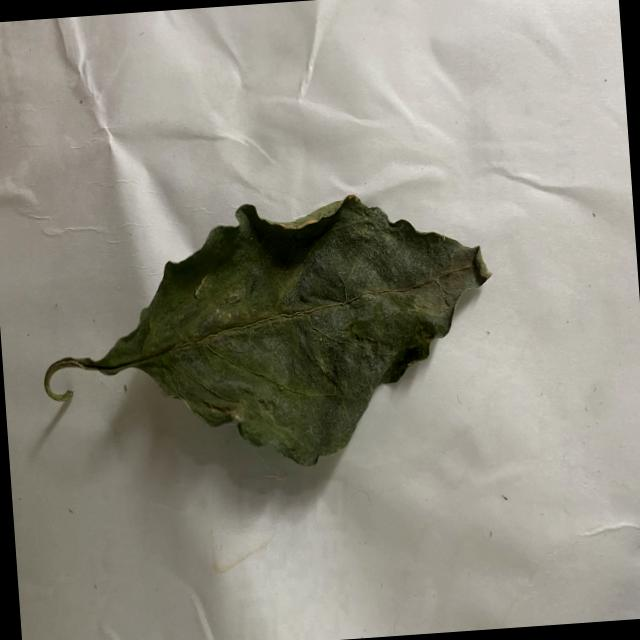Leaf: (96, 182, 506, 481)
